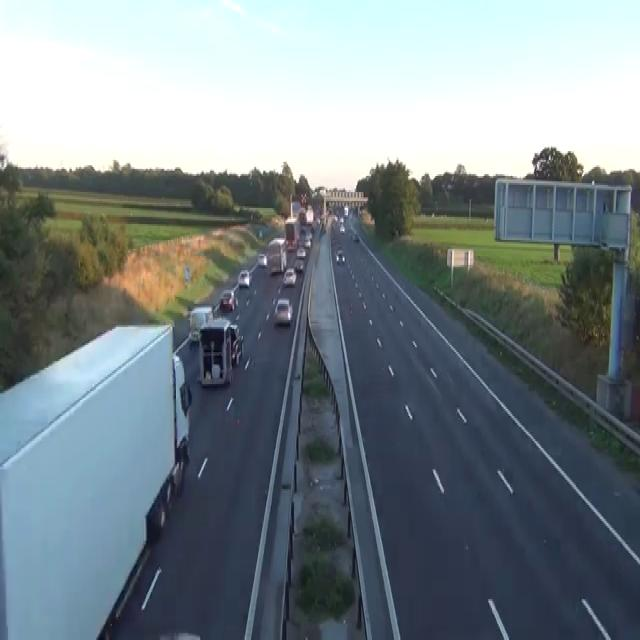Car: (273, 297, 293, 325), (220, 290, 237, 311), (237, 268, 252, 288), (158, 631, 200, 638), (282, 267, 296, 286), (188, 327, 200, 343), (335, 247, 345, 265), (257, 252, 267, 266), (294, 258, 304, 272), (296, 245, 306, 258), (304, 238, 311, 247), (392, 228, 399, 236), (353, 233, 359, 242), (339, 224, 345, 233), (388, 304, 395, 311), (333, 214, 338, 222), (258, 230, 262, 238)
Truck: (0, 322, 191, 638), (197, 316, 243, 388), (188, 304, 213, 341), (266, 236, 286, 274), (284, 217, 298, 251)
